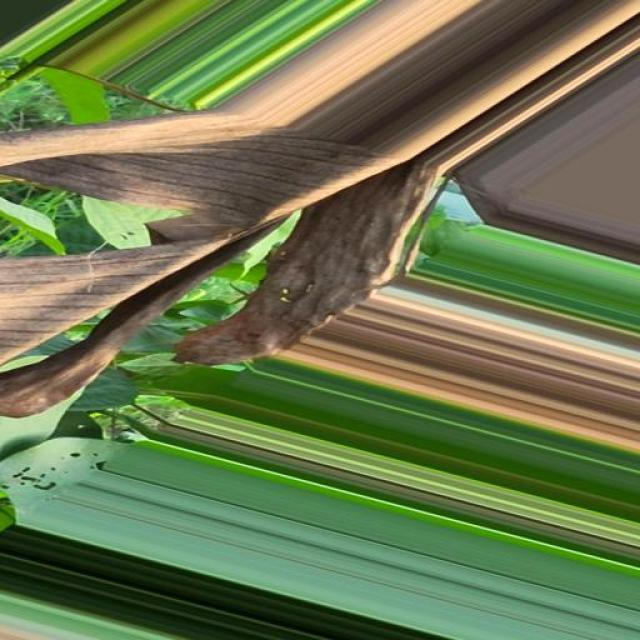Bract_mosaic_virus: (144, 0, 640, 234), (3, 128, 349, 411)
